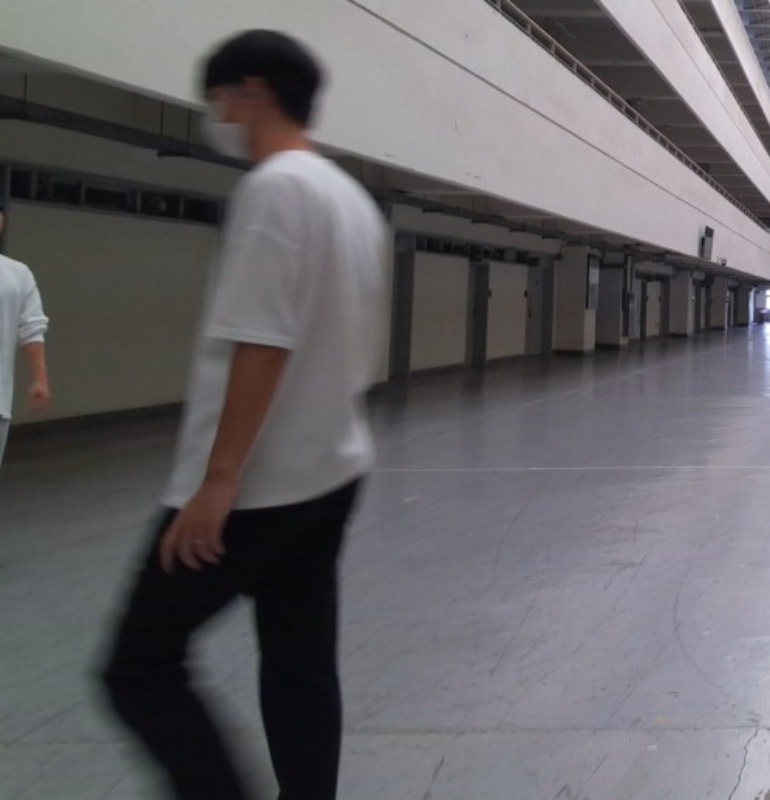person: (96, 26, 410, 799)
